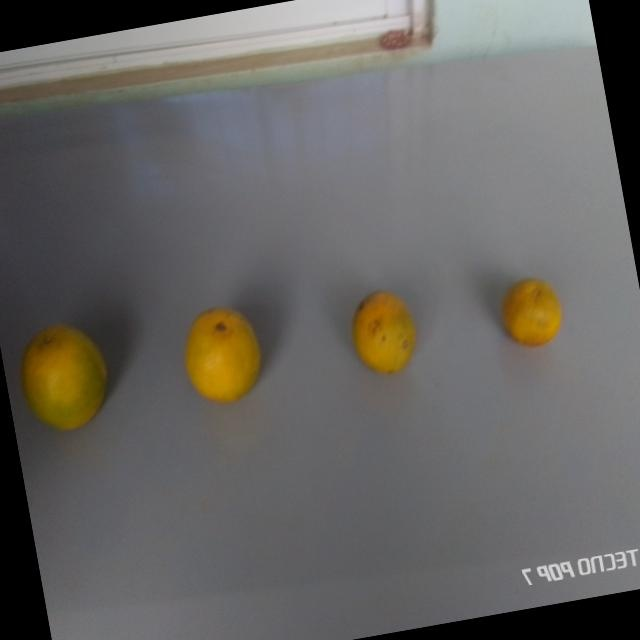agrume: (9, 309, 119, 443), (168, 298, 272, 417), (338, 279, 426, 389), (491, 264, 575, 360)
